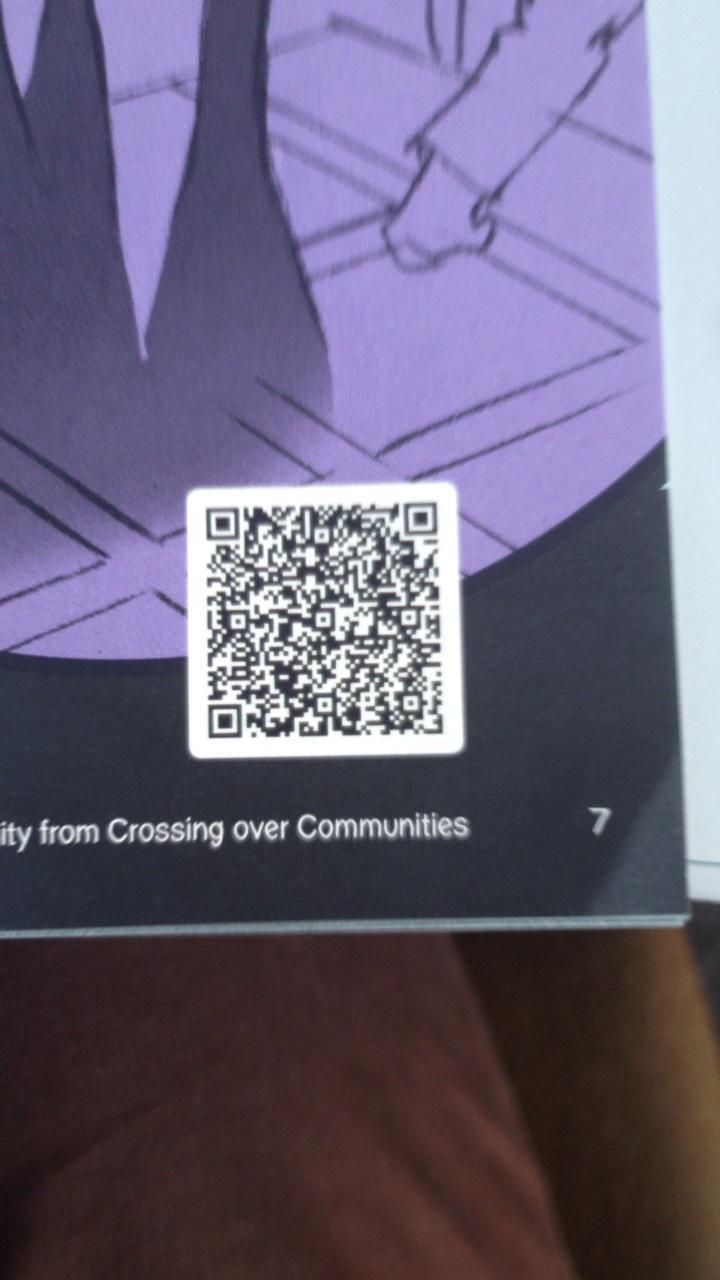Finder pattern: (203, 698, 247, 743), (398, 499, 444, 538), (202, 503, 243, 543)
